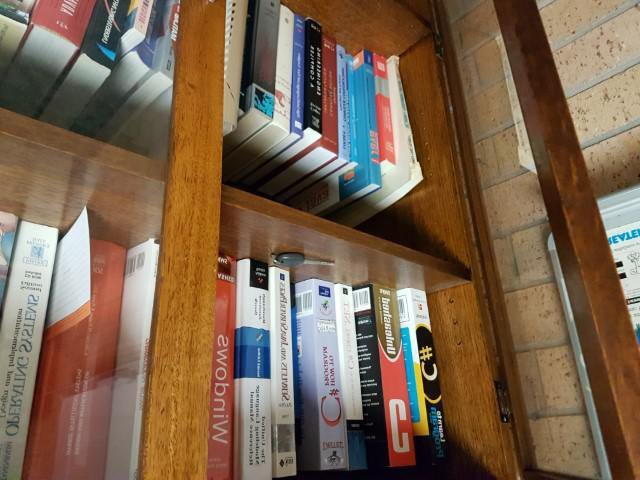key: (277, 251, 335, 268)
